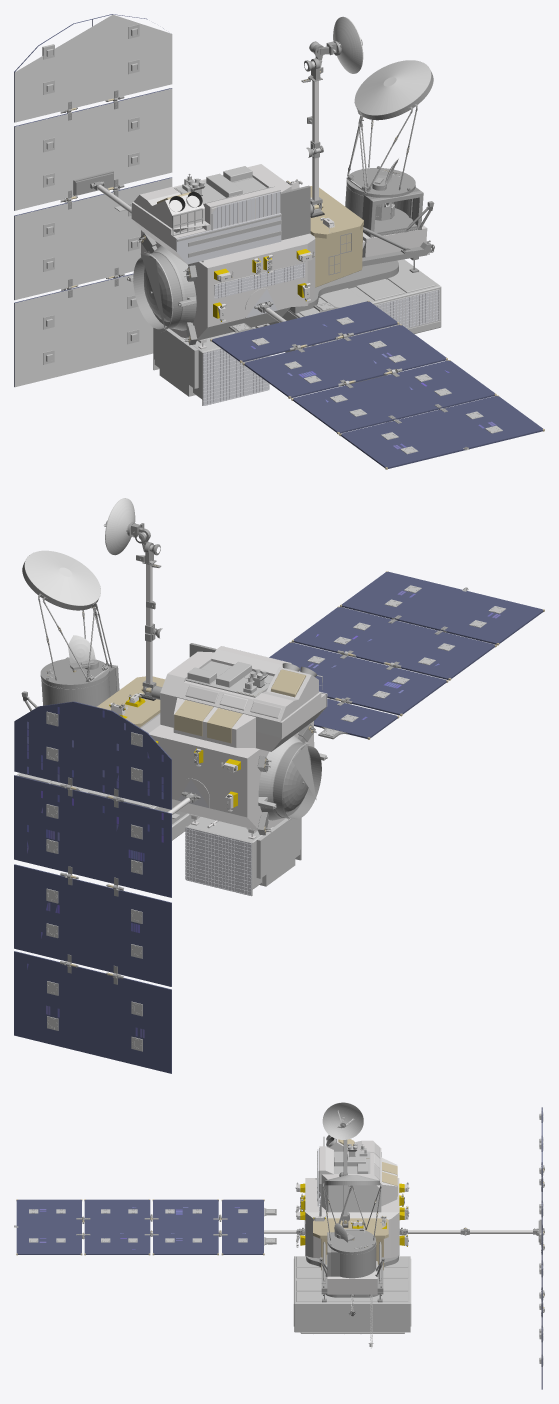
Rendered from gpm.glb.
The picture shows the model from 3 angles, top to bottom: view 1: azimuth 30°, elevation 25°; view 2: azimuth 150°, elevation 25°; view 3: azimuth 270°, elevation 25°; orthographic projection. The views are drawn at different scales.
Parts seen in each view (by area): view 1: GPM-MainBus; view 2: GPM-MainBus; view 3: GPM-MainBus.
Part boxes in pixels (box(x1,y1,x2,y2)): GPM-MainBus: box(14, 14, 544, 469); GPM-MainBus: box(14, 498, 544, 1073); GPM-MainBus: box(14, 1102, 544, 1389).
Bounding box in the file's own units: 5.71 × 8.08 × 13.
